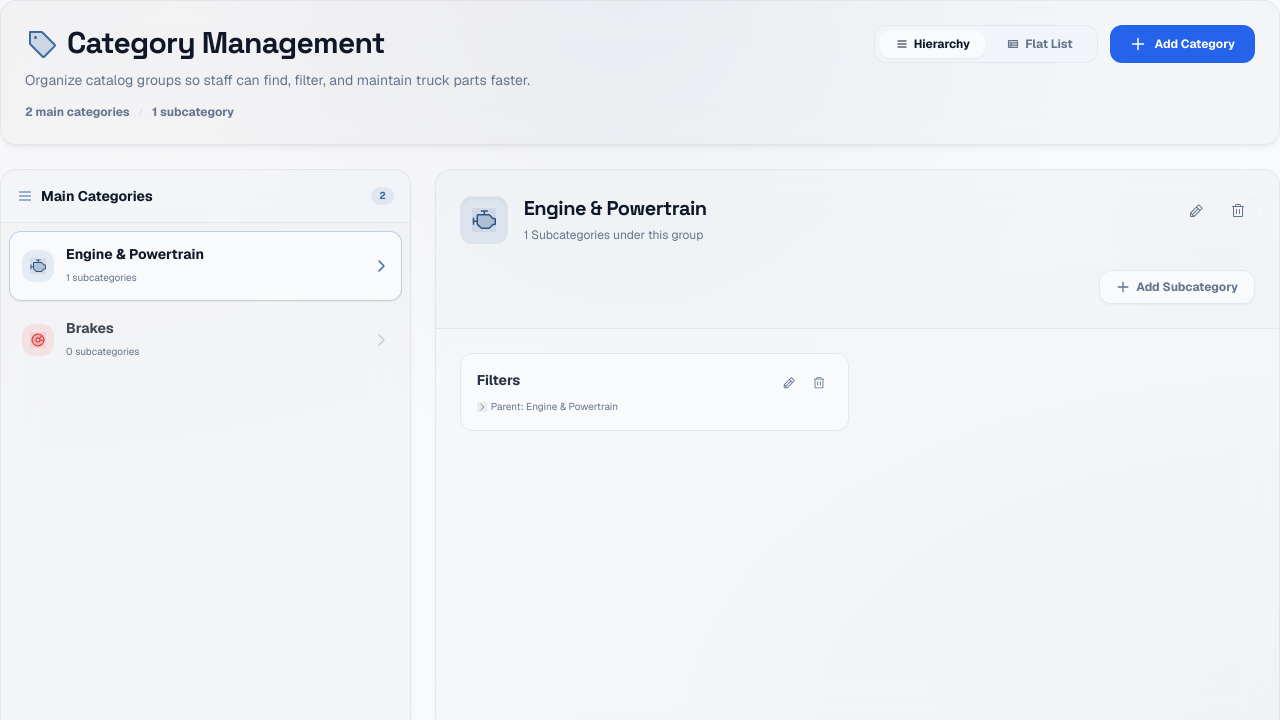
Test case: CategoryManagement › shows inline validation when category name is empty
The image size is (1280, 720).
Click the button "Add Category".
click(1183, 44)  # box [1110, 25, 1255, 63]
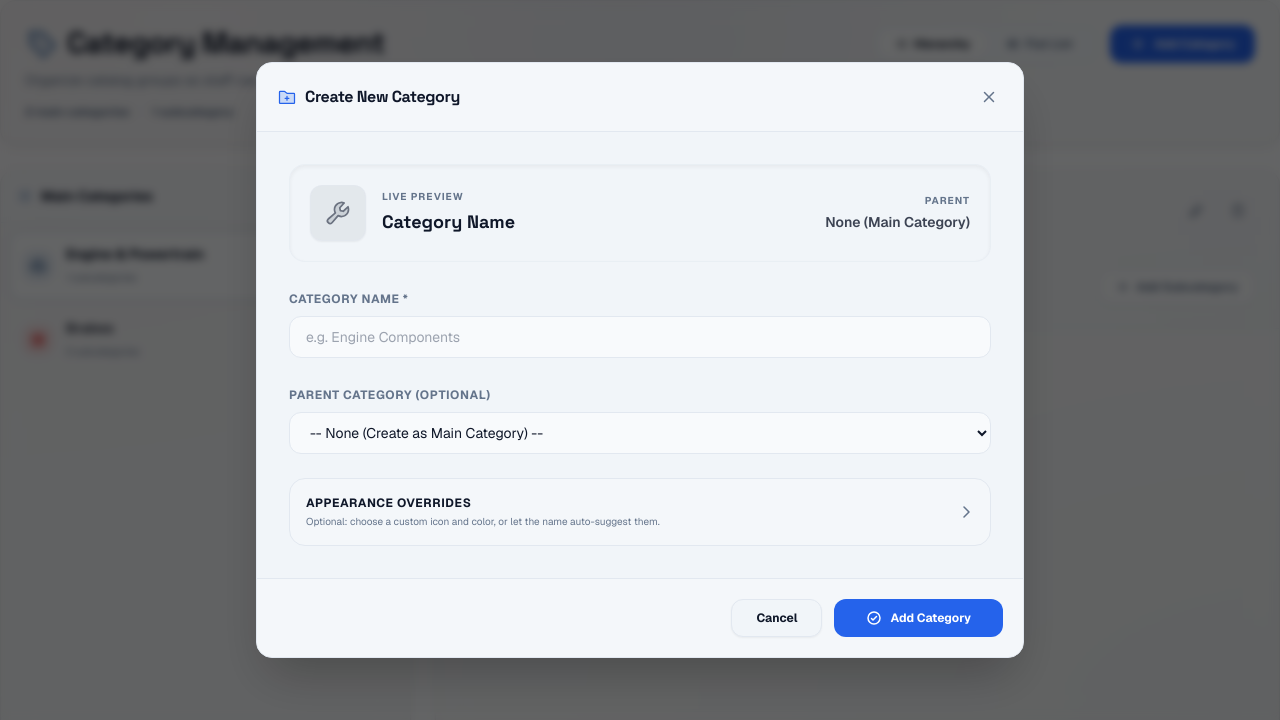
Click the button "Add Category".
click(919, 618)  # box [834, 599, 1003, 637]
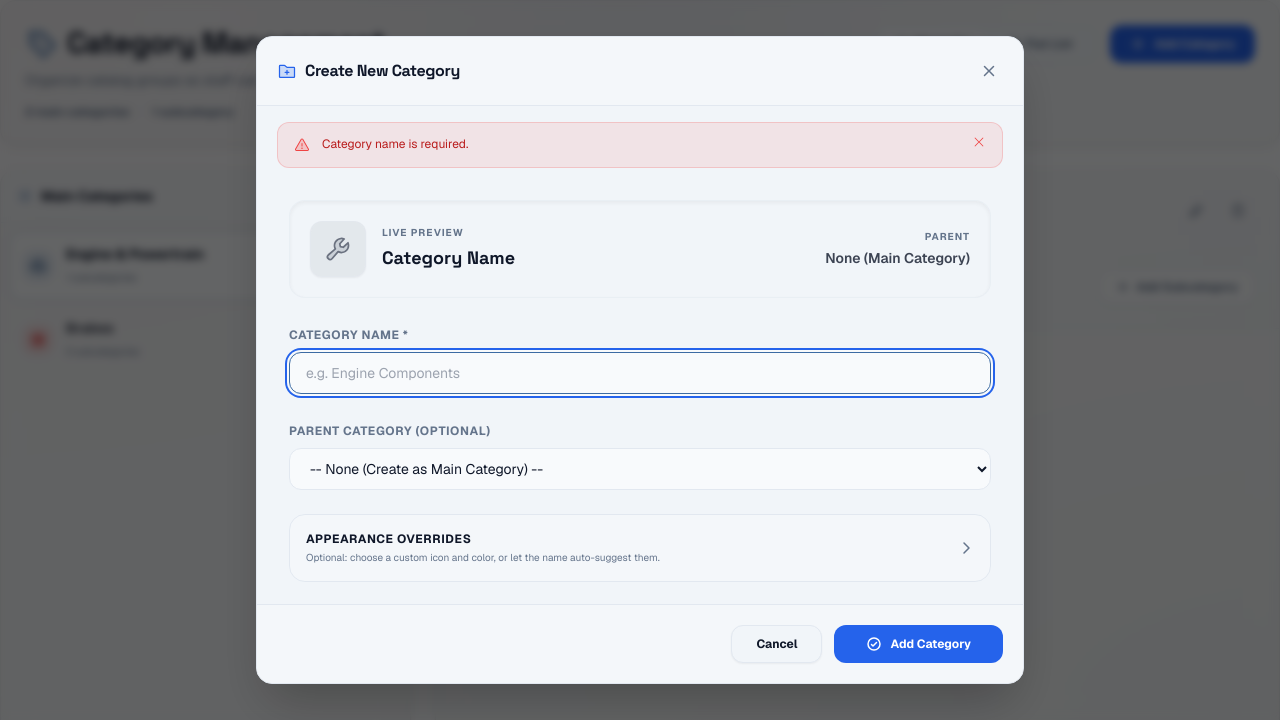
Result: the message shows "Category name is required" at [322, 136, 468, 152]
